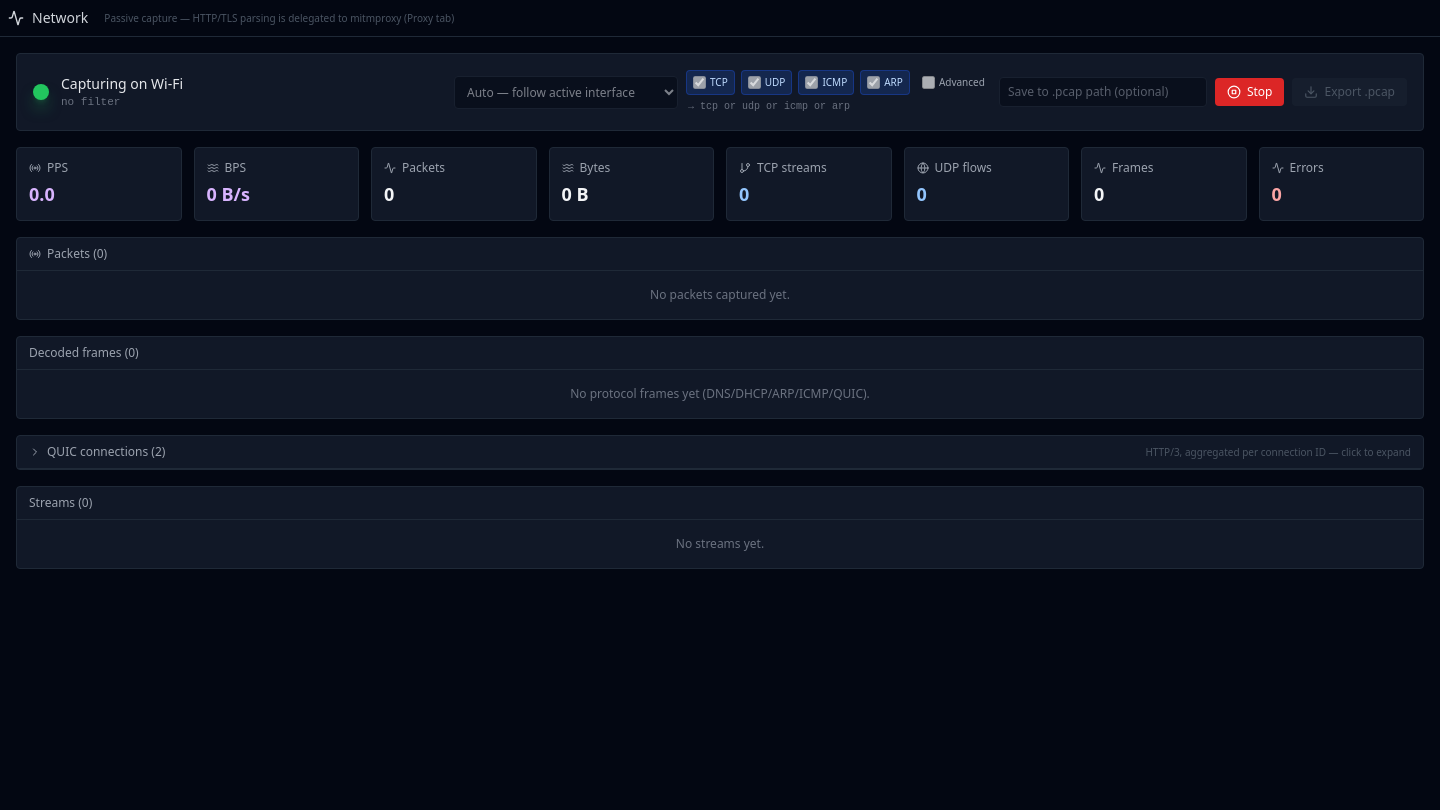
Test: Network — QUIC connections table › shows a collapsed table that expands to the per-connection rows
Check: the text "142.250.184.174:443" is not shown
Click the button "QUIC connections (2)". click: (101, 452)
box: [17,436,1423,469]
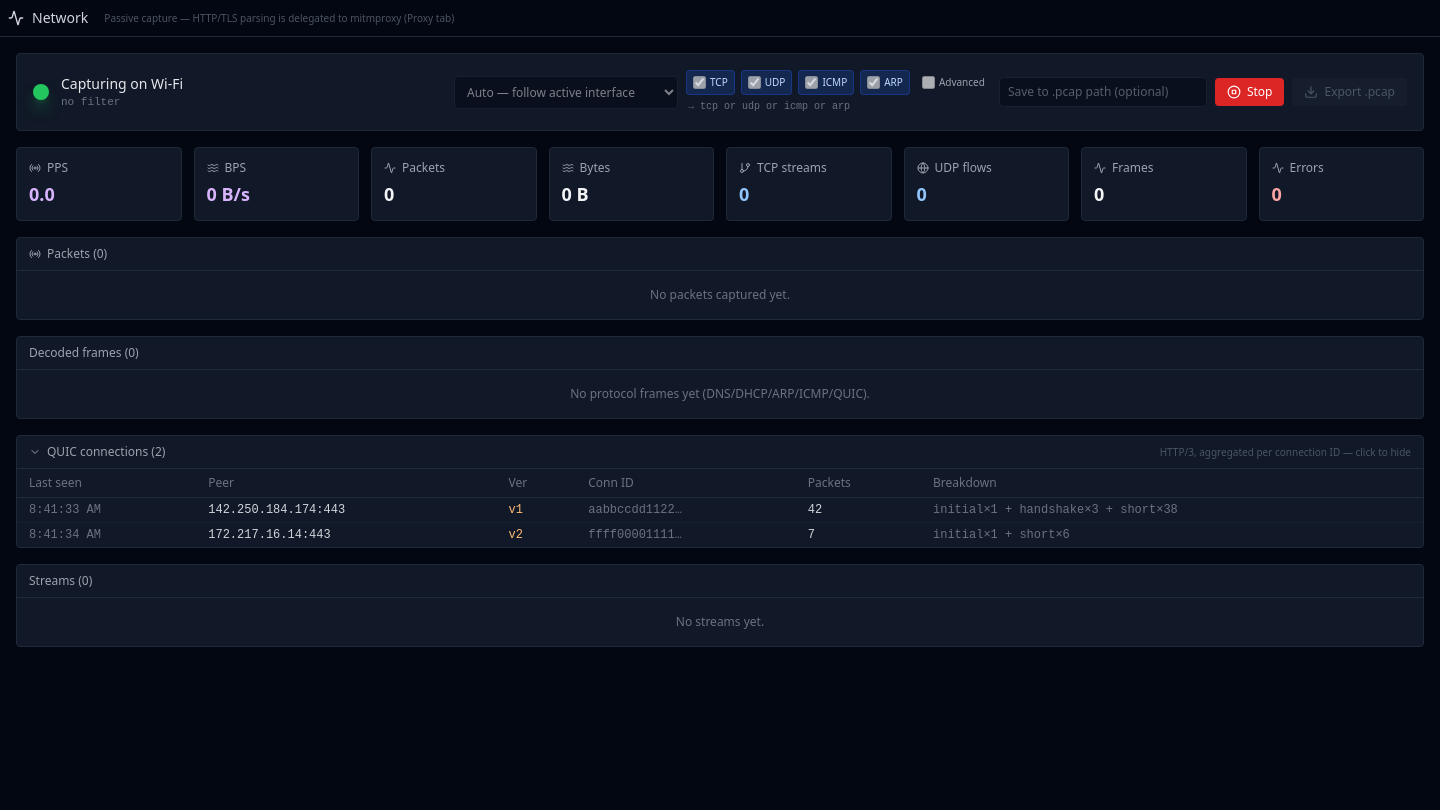
Check: the text "142.250.184.174:443" is shown, box [196,498,497,522]
Check: the text "aabbccdd1122…" is shown, box [576,498,796,522]
Check: the text "42" is shown, box [796,498,921,522]
Collapsing again hides the rows.
Click the button "QUIC connections (2)". click: (101, 452)
box: [17,436,1423,469]
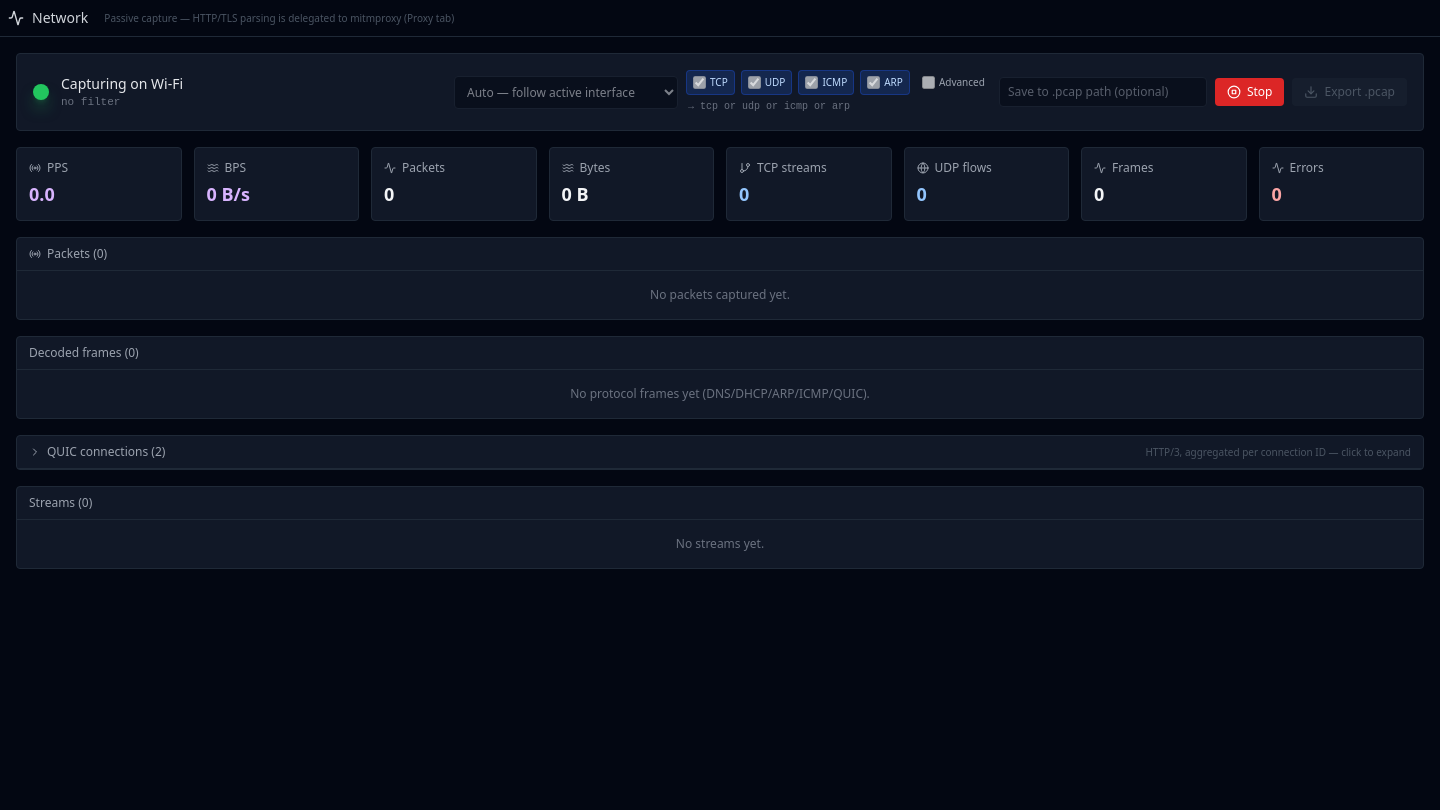
Check: the text "142.250.184.174:443" is gone
